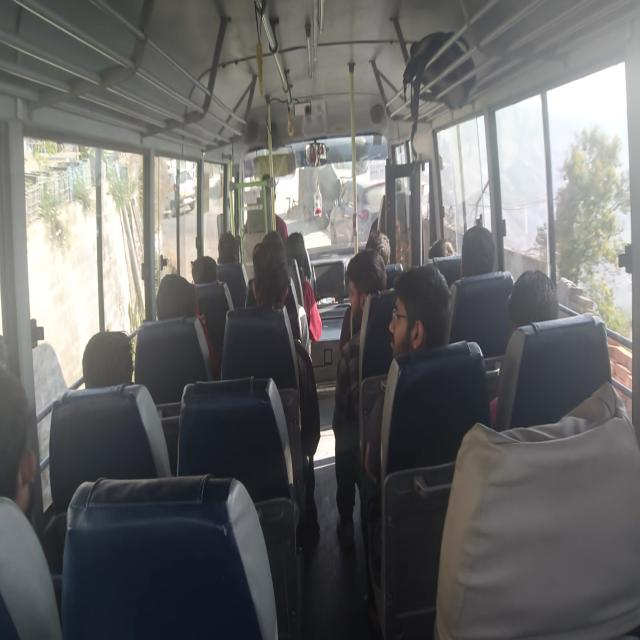person: (0, 364, 50, 508), (82, 327, 135, 390), (508, 276, 563, 336), (351, 250, 388, 326), (253, 247, 293, 314), (157, 269, 202, 323), (466, 224, 506, 284), (194, 255, 221, 294), (365, 228, 397, 259), (426, 235, 454, 266), (217, 236, 242, 267), (288, 236, 308, 266), (266, 229, 286, 252)
